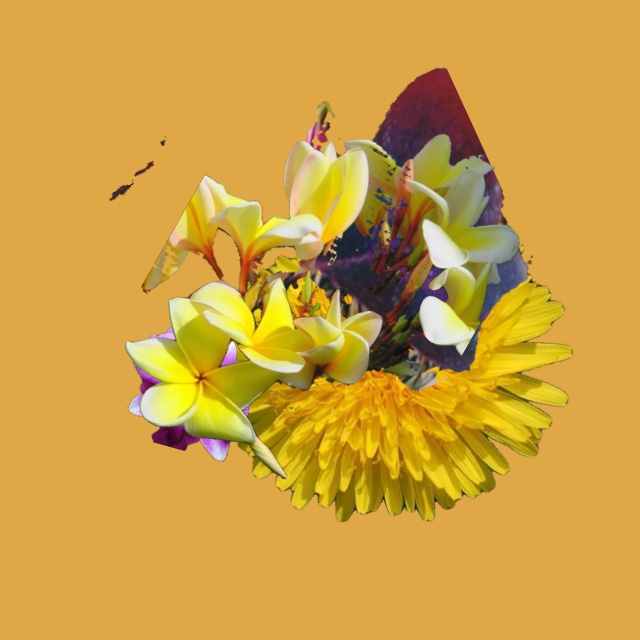butterfly flower: (110, 68, 532, 389)
dandelion: (217, 198, 572, 521)
frangipani: (126, 134, 519, 478)
orchid: (128, 323, 262, 460)
